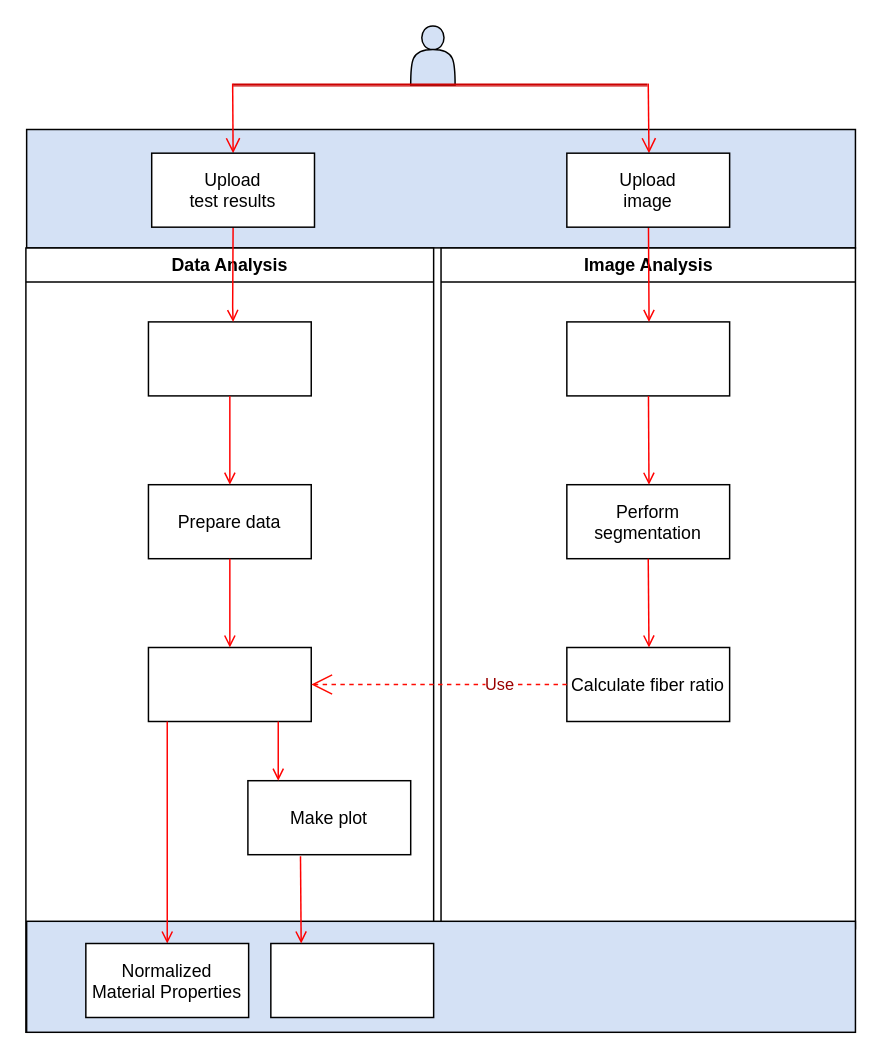
Image size: 882x1058. Some labels were removed from this diagram. Here are the shapes that lost their labels. From the top down, the box of each, then its label:
(147, 320, 311, 396): Create database
(565, 320, 730, 396): Set threshold
(147, 646, 311, 722): Normalize data
(269, 942, 434, 1018): Stress-Strain Curve
